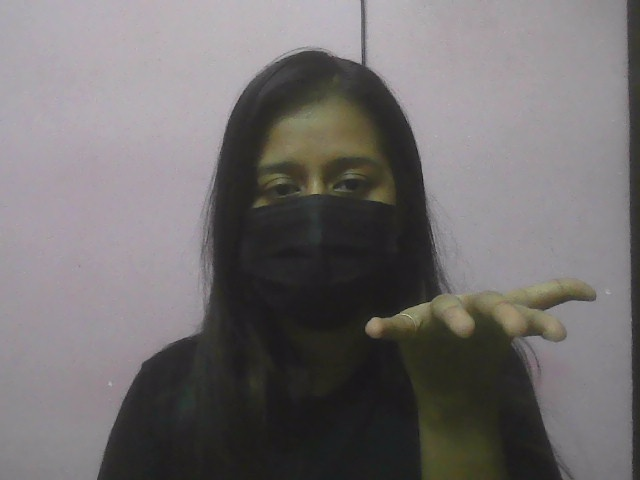Morning: (348, 268, 620, 359)
